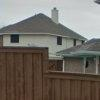Chimney: (44, 3, 71, 31)
